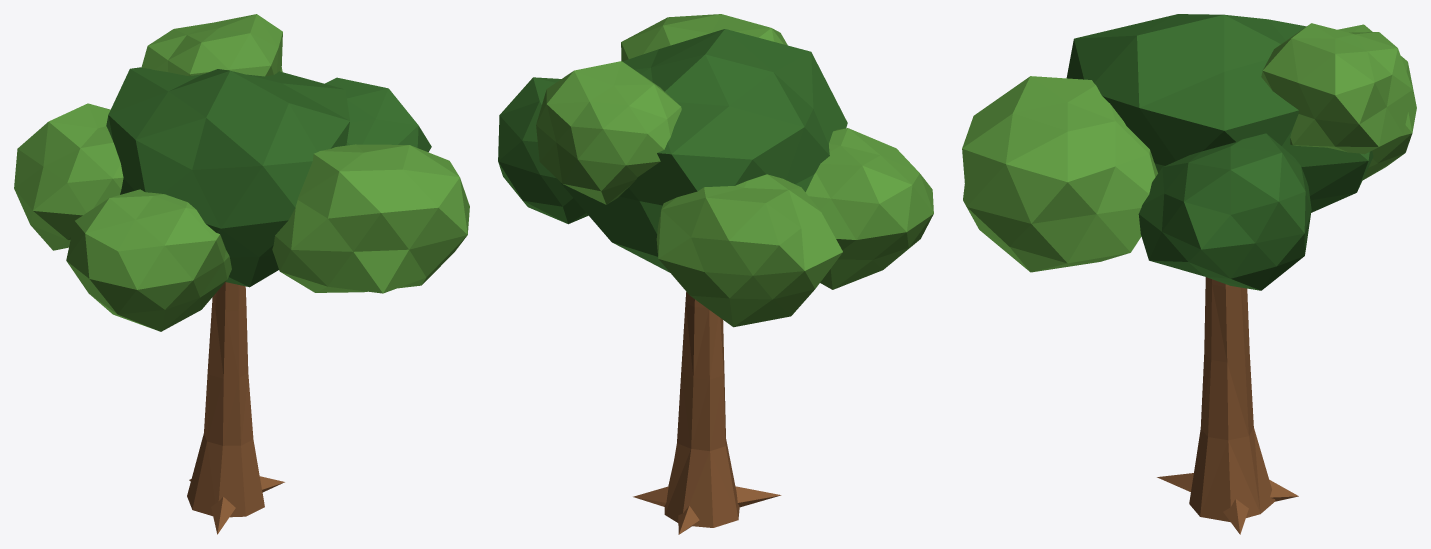
File: HS_LP_Tree_Ash_01.fbx
3 renders of one model, left to right at view 1: azimuth 30°, elevation 25°; view 2: azimuth 150°, elevation 25°; view 3: azimuth 270°, elevation 25°, orthographic. The views are drawn at different scales.
Parts seen in each view (by area): view 1: HS_LP_Tree_Ash_01; view 2: HS_LP_Tree_Ash_01; view 3: HS_LP_Tree_Ash_01.
Part boxes in pixels (x1=…): HS_LP_Tree_Ash_01: x1=14, y1=14, x2=469, y2=534; HS_LP_Tree_Ash_01: x1=498, y1=14, x2=933, y2=534; HS_LP_Tree_Ash_01: x1=962, y1=14, x2=1416, y2=534.
Bounding box in the file's own units: 481 × 546 × 454.
